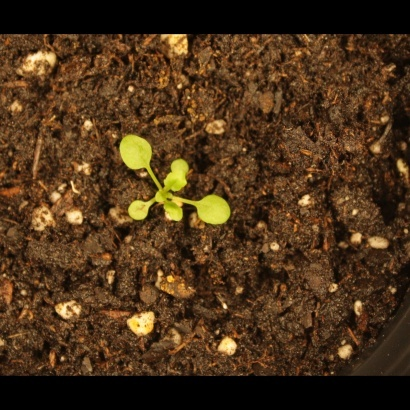leaf: (196, 190, 234, 229), (116, 135, 155, 171), (162, 199, 188, 228), (123, 199, 152, 224), (164, 171, 189, 194), (170, 154, 194, 177)
